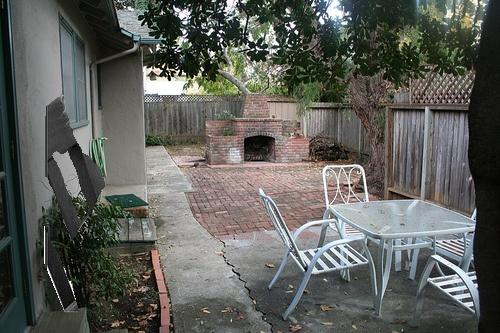tampered: (45, 94, 105, 313)
